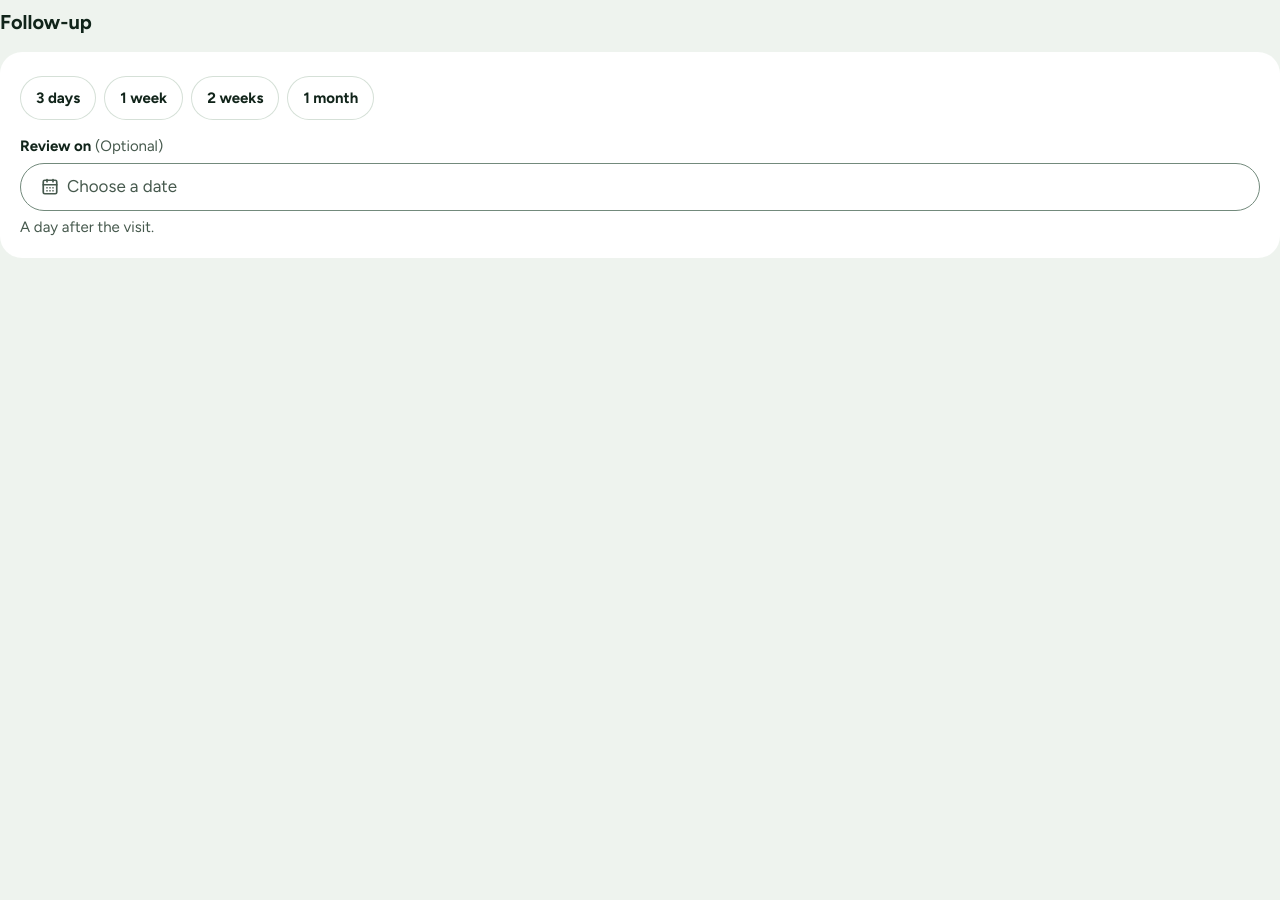
Test: FollowUpSection (plan §12.2; D205) › takes any day after the visit's from the calendar, never the visit's own
The width and height of the screenshot is (1280, 900).
Step 1. Click the button named "Review on" → (122, 186), box top-left (20, 163), bottom-right (1260, 211)
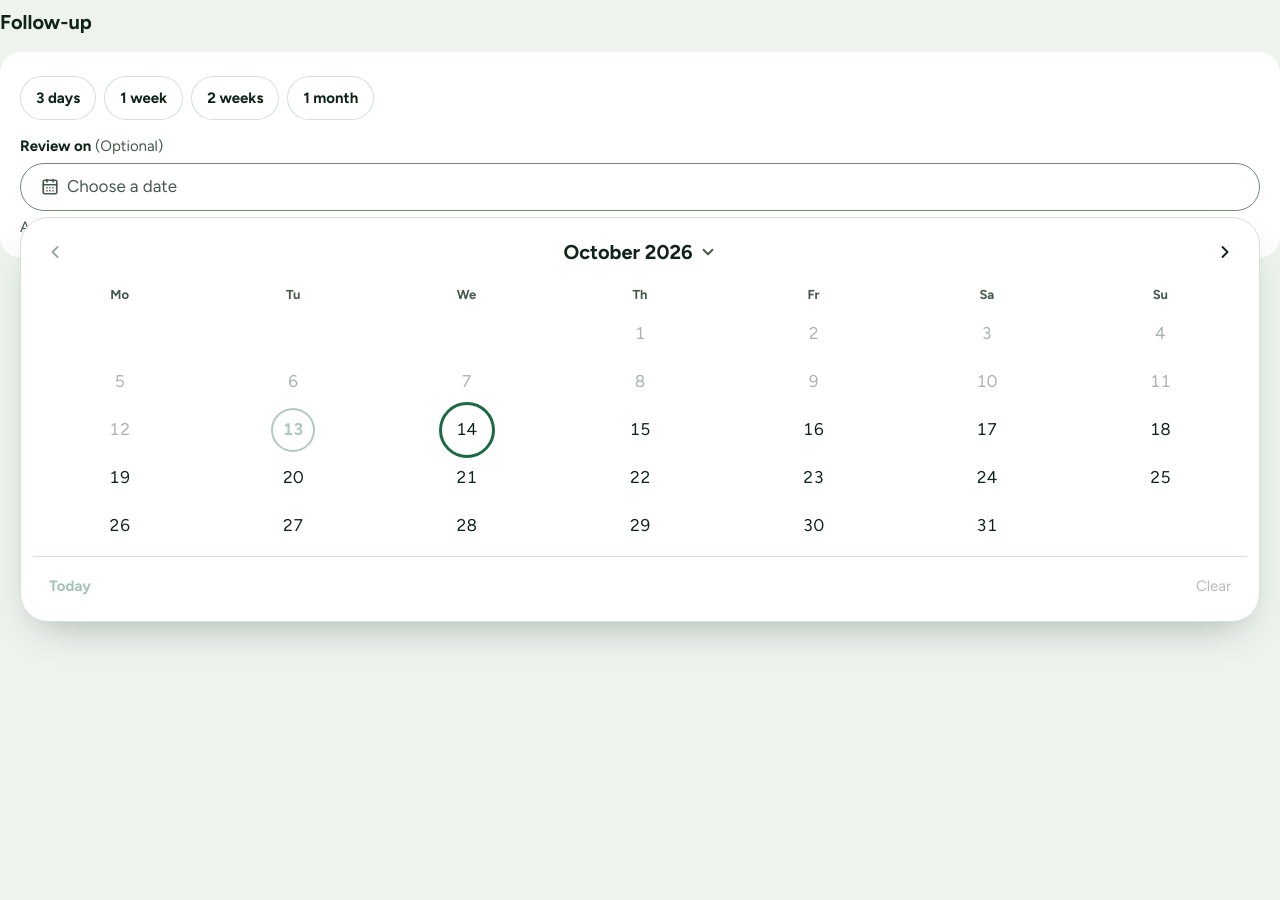
Check: the button named "Tuesday, 13 Oct 2026" is disabled, box top-left (271, 408), bottom-right (315, 452)
Step 2. Click the button named "Wednesday, 14 Oct 2026" → (467, 430), box top-left (445, 408), bottom-right (489, 452)
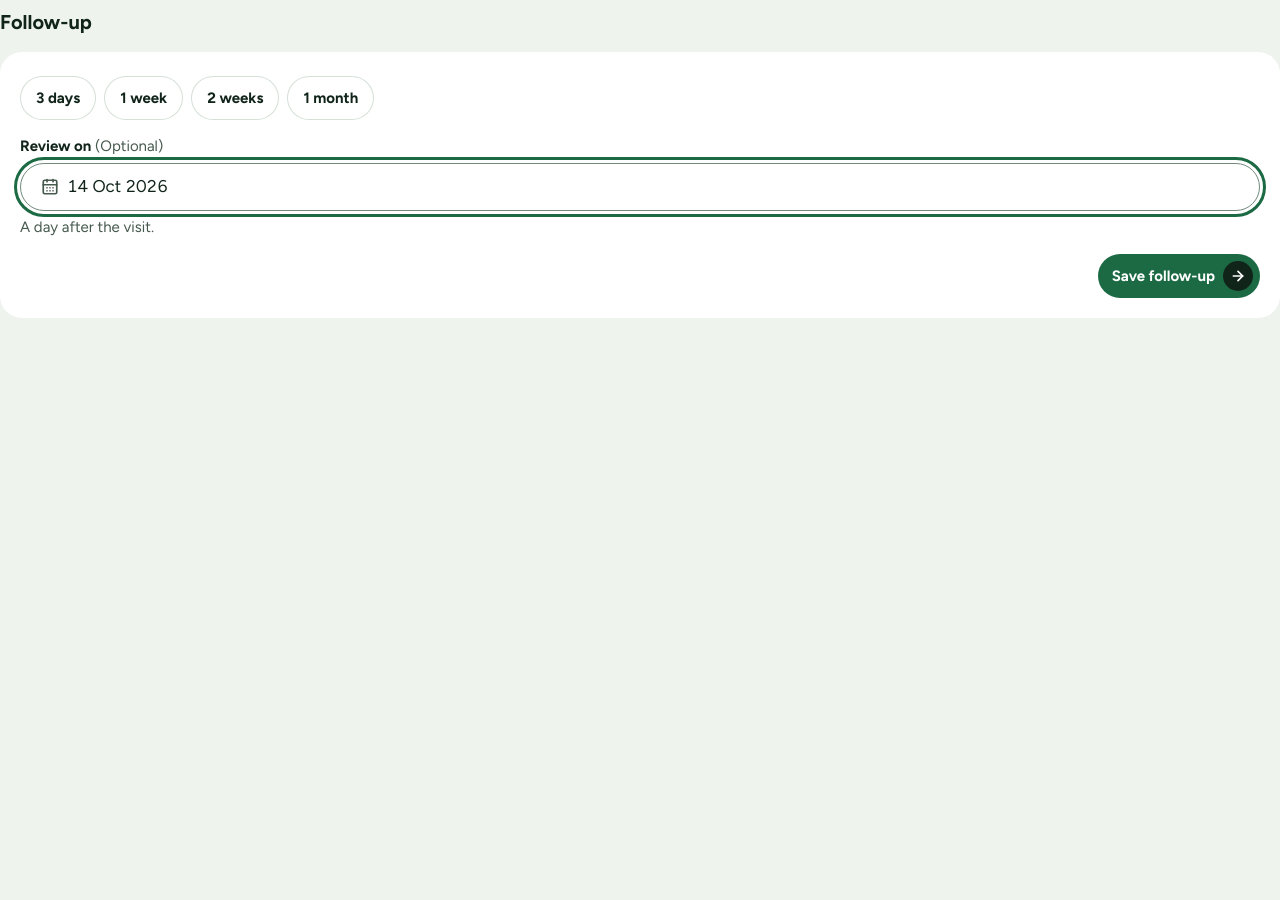
Check: the radio button labelled "3 days" is not checked, box top-left (20, 76), bottom-right (96, 120)
Check: the button named "Review on" reads "14 Oct 2026", box top-left (20, 163), bottom-right (1260, 211)
